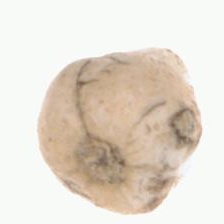L4: (36, 48, 202, 214)
